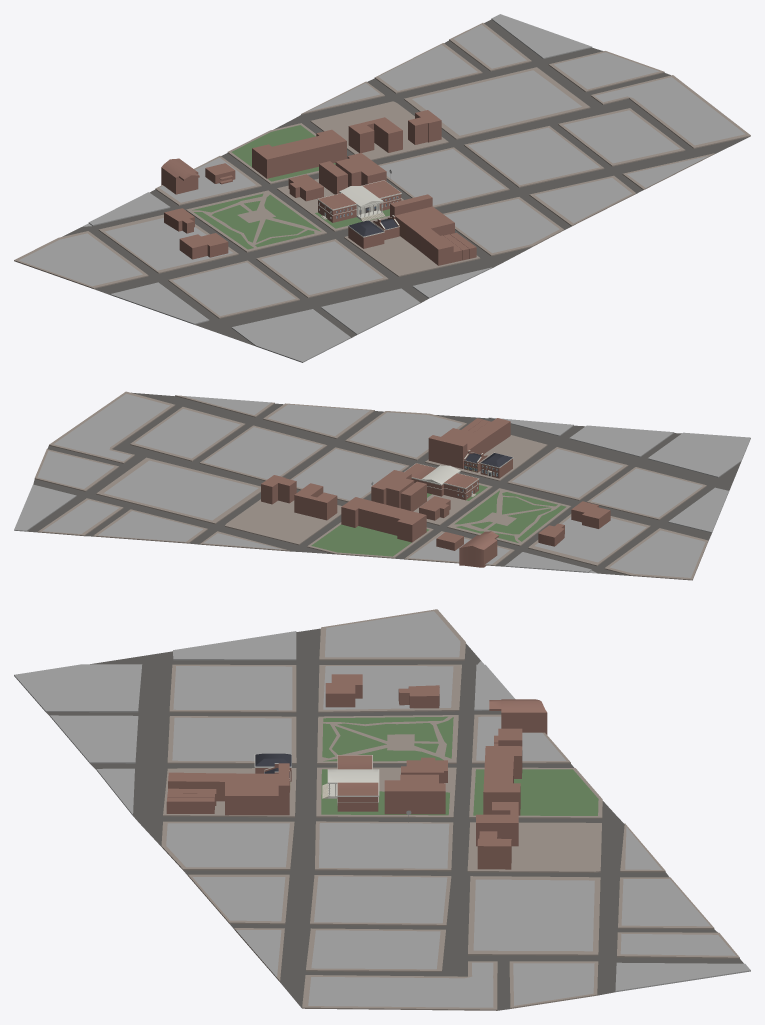
The model's file is Downtown mall export draft 1.fbx.
3 renders of one model, top to bottom at view 1: azimuth 30°, elevation 25°; view 2: azimuth 150°, elevation 25°; view 3: azimuth 270°, elevation 25°, orthographic. The views are drawn at different scales.
Visible parts, largest first — view 1: street, Paramount, Apartment_Block, Jefferson_Madison_Regional_Library, Beth_Israel, Holy_Comforter_Catholic_Church, First_Methodist, Hill_and_Wood_Funeral_Service, BB_T, E_Market_200, Albemarle_Charlottesville_Historical_Society, Blue_Ridge_Group (+1 smaller); view 2: street, Apartment_Block, Paramount, Jefferson_Madison_Regional_Library, Beth_Israel, First_Methodist, Holy_Comforter_Catholic_Church, BB_T, Hill_and_Wood_Funeral_Service, Blue_Ridge_Group, E_Market_200, Albemarle_Charlottesville_Historical_Society (+2 smaller); view 3: street, Paramount, Jefferson_Madison_Regional_Library, Holy_Comforter_Catholic_Church, Apartment_Block, First_Methodist, Beth_Israel, BB_T, Hill_and_Wood_Funeral_Service, just_house_I_guess, Main_225.
Part boxes in pixels (bbox=[...]): street: bbox=[14, 14, 750, 362]; Paramount: bbox=[390, 194, 454, 265]; Apartment_Block: bbox=[252, 129, 346, 178]; Jefferson_Madison_Regional_Library: bbox=[317, 180, 401, 222]; Beth_Israel: bbox=[348, 117, 402, 153]; Holy_Comforter_Catholic_Church: bbox=[335, 153, 386, 186]; First_Methodist: bbox=[161, 158, 199, 194]; Hill_and_Wood_Funeral_Service: bbox=[179, 233, 228, 259]; BB_T: bbox=[408, 110, 441, 144]; E_Market_200: bbox=[348, 220, 384, 248]; Albemarle_Charlottesville_Historical_Society: bbox=[288, 174, 323, 201]; Blue_Ridge_Group: bbox=[319, 161, 347, 194]; street: bbox=[14, 391, 750, 580]; Apartment_Block: bbox=[341, 497, 426, 542]; Paramount: bbox=[428, 418, 510, 468]; Jefferson_Madison_Regional_Library: bbox=[404, 463, 479, 500]; Beth_Israel: bbox=[294, 483, 337, 520]; First_Methodist: bbox=[459, 531, 498, 567]; Holy_Comforter_Catholic_Church: bbox=[371, 470, 414, 507]; BB_T: bbox=[261, 475, 296, 504]; Hill_and_Wood_Funeral_Service: bbox=[571, 501, 610, 528]; Blue_Ridge_Group: bbox=[400, 481, 426, 511]; E_Market_200: bbox=[480, 452, 513, 478]; Albemarle_Charlottesville_Historical_Society: bbox=[419, 496, 450, 520]; street: bbox=[14, 609, 750, 1010]; Paramount: bbox=[168, 763, 289, 815]; Jefferson_Madison_Regional_Library: bbox=[327, 755, 379, 811]; Holy_Comforter_Catholic_Church: bbox=[384, 774, 445, 814]; Apartment_Block: bbox=[483, 746, 522, 815]; First_Methodist: bbox=[489, 699, 547, 734]; Beth_Israel: bbox=[476, 802, 518, 846]; BB_T: bbox=[477, 831, 511, 869]; Hill_and_Wood_Funeral_Service: bbox=[325, 674, 362, 707]; just_house_I_guess: bbox=[398, 685, 439, 708]; Main_225: bbox=[166, 798, 214, 813].
Size of the model in its own units: 17.68 by 0.7361 by 13.75.
